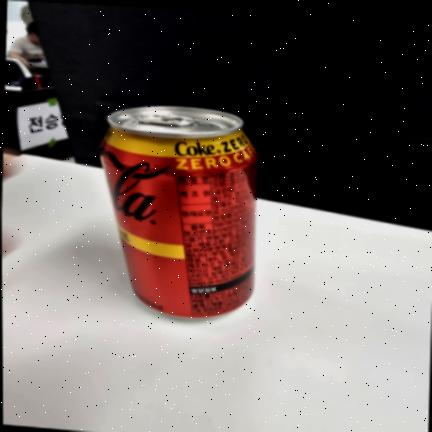can_coke_decaf: (100, 106, 258, 318)
